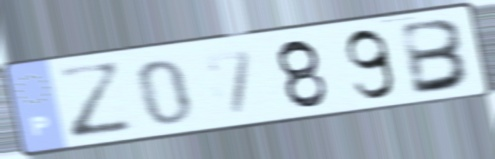0: (132, 56, 200, 127)
7: (206, 47, 254, 116)
8: (274, 37, 330, 110)
9: (341, 26, 399, 102)
B: (398, 16, 475, 99)
Z: (51, 59, 139, 143)
